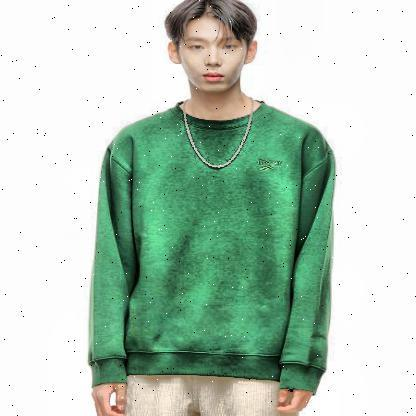sweater: (82, 95, 340, 402)
trousers: (121, 370, 288, 416)
